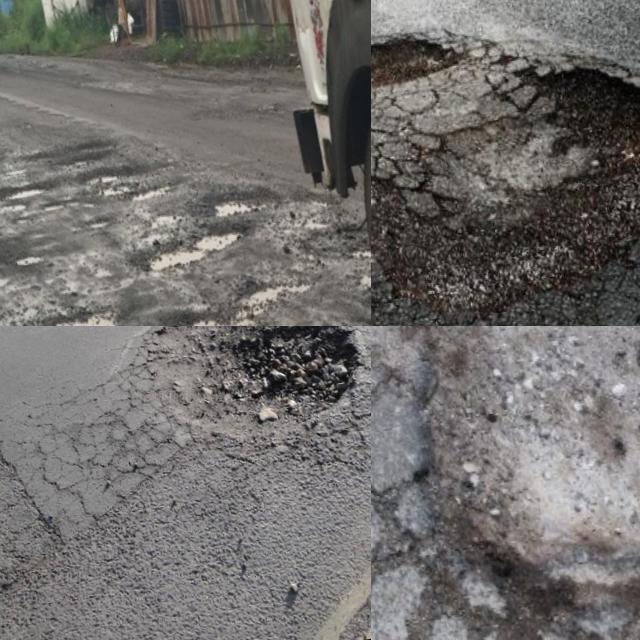Potholes: (371, 326, 640, 640), (371, 44, 640, 326), (70, 326, 371, 537), (371, 0, 495, 145), (48, 105, 172, 230), (0, 142, 63, 256), (0, 288, 117, 326), (84, 298, 223, 326)
